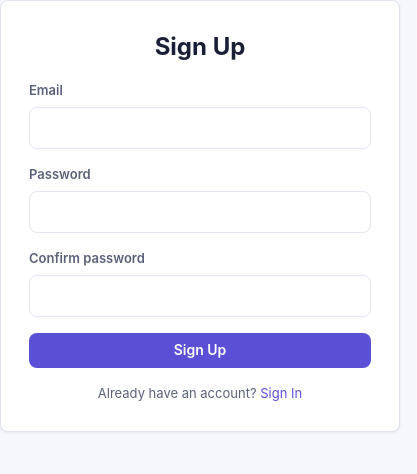
Test: AuthForm sign up › validates that passwords match
Type "user@example.com" into the field labelled "Email".
click(200, 128); type("user@example.com")  # box [29,106,371,149]
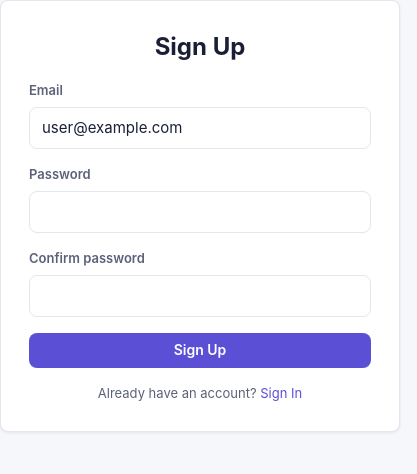
Type "abcdef1!" into the password field labelled "Password".
click(200, 212); type("abcdef1!")  # box [29,190,371,233]
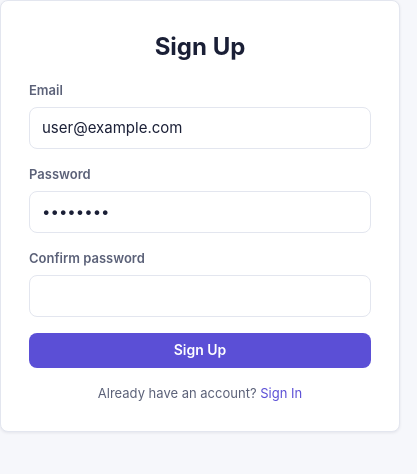
Type "different1!" into the password field labelled "Confirm password".
click(200, 296); type("different1!")  # box [29,274,371,317]
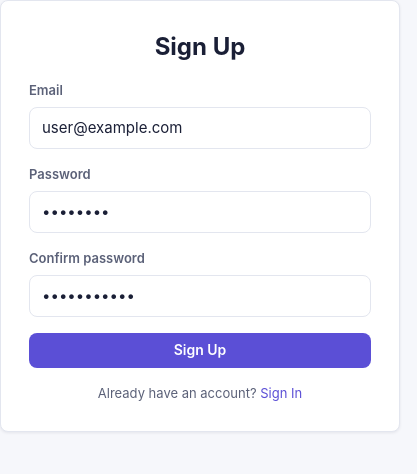
Click the button "Sign Up".
click(200, 350)  # box [29,333,371,368]
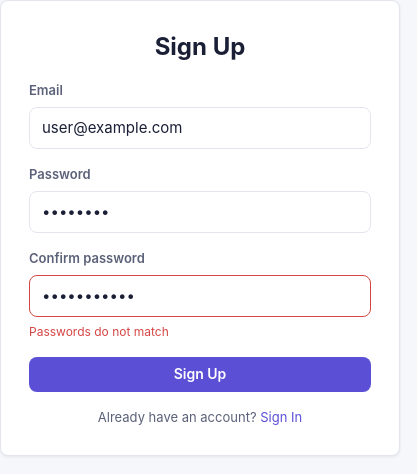
Check: the text "Passwords do not match" is shown, box [29,324,169,339]
